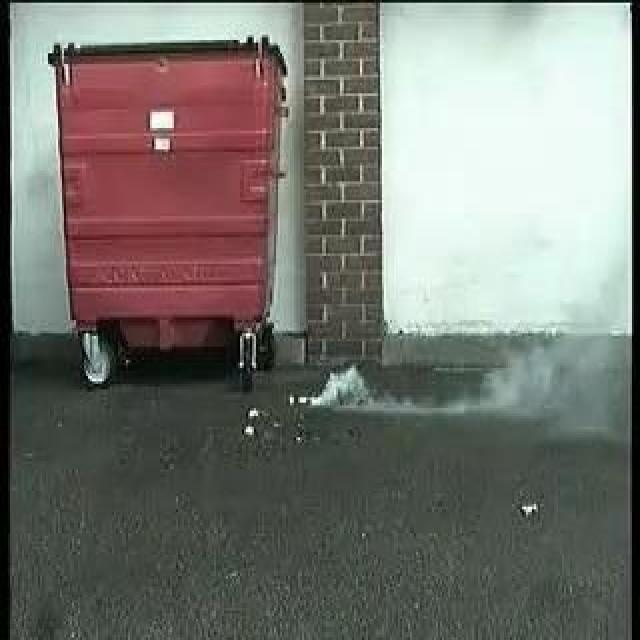Smoke: (298, 361, 386, 415)
